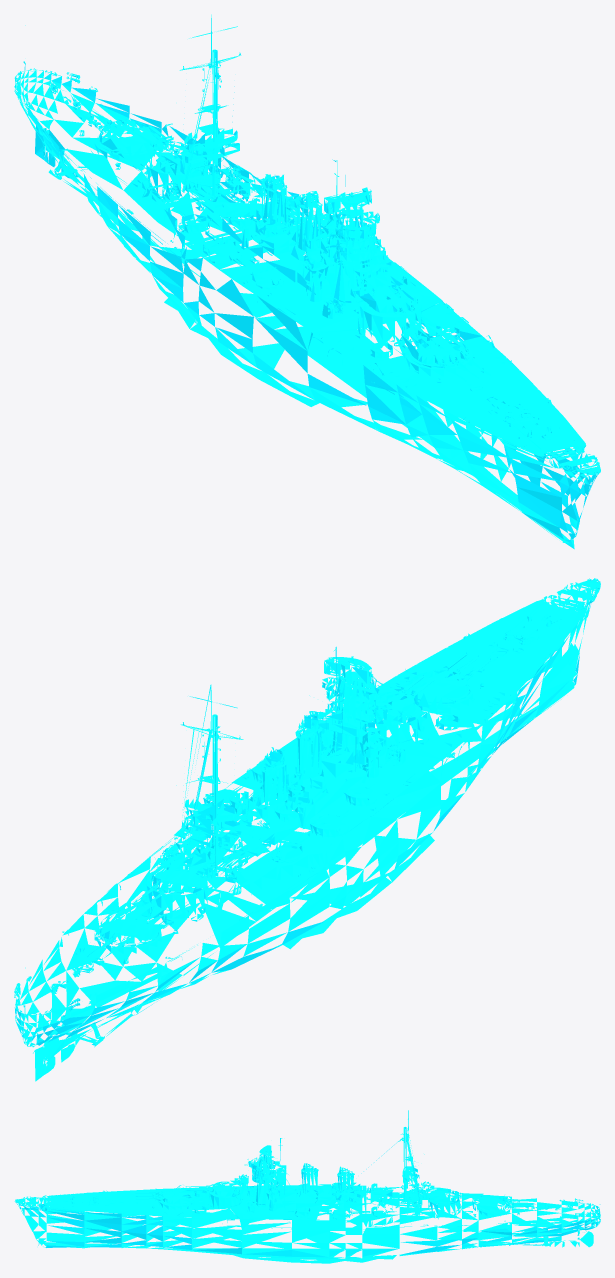
The model's file is PISB505.glb.
The picture shows the model from 3 angles, top to bottom: view 1: azimuth 30°, elevation 25°; view 2: azimuth 150°, elevation 25°; view 3: azimuth 270°, elevation 25°; orthographic projection. The views are drawn at different scales.
Visible parts, largest first — view 1: hull, turret; view 2: hull, turret; view 3: hull, turret.
Boxes of the visible parts, x1,y1,x2,y2 form: hull: (14,14,600,549); turret: (49,78,490,382); hull: (14,578,600,1081); turret: (49,652,491,993); hull: (14,1110,600,1263); turret: (135,1170,572,1218).
Bounding box in the file's own units: 1.87 × 3.24 × 12.44.
